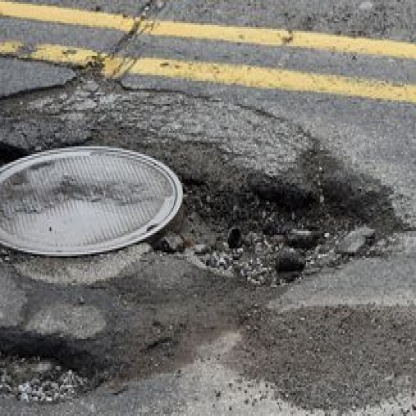pothole: (1, 59, 407, 404)
